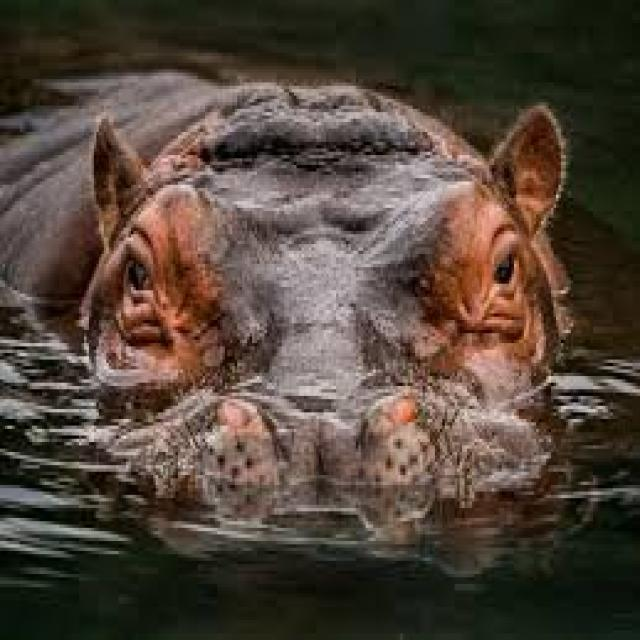Hippopotamus: (3, 69, 590, 542)
